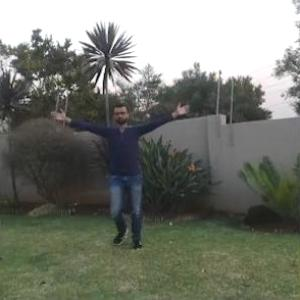takeoff: (59, 95, 186, 243)
